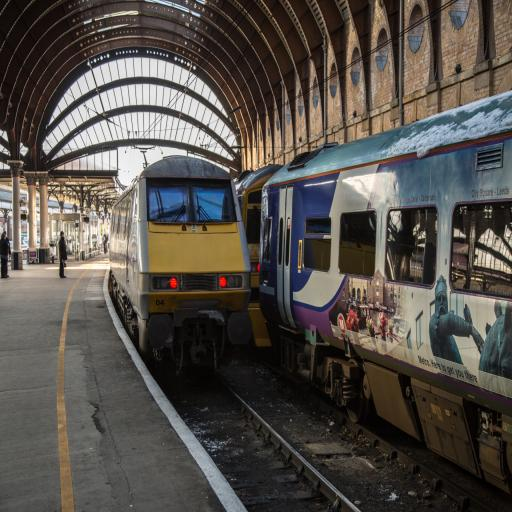platform_edge: (34, 321, 250, 512)
